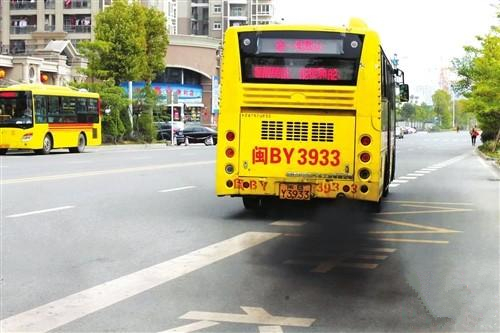smoke: (274, 202, 406, 303)
